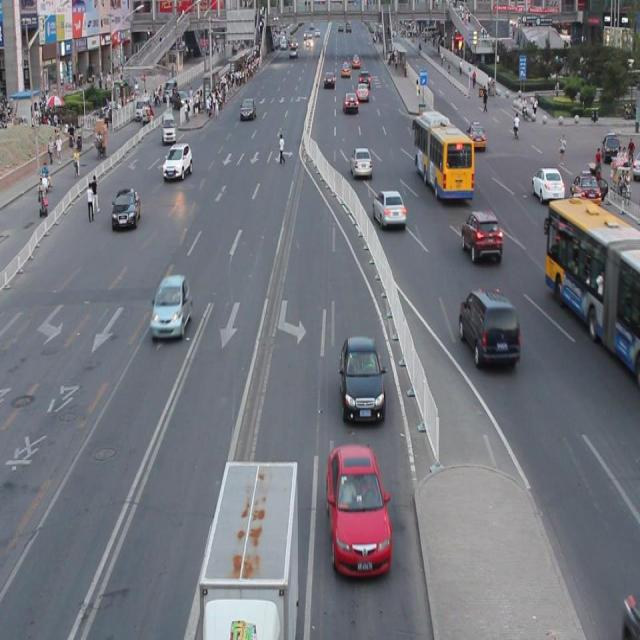bus: (197, 458, 299, 640)
car: (326, 442, 391, 575), (458, 286, 519, 368), (339, 336, 384, 424), (150, 274, 192, 338), (461, 209, 501, 263), (112, 187, 142, 230), (372, 189, 405, 227), (531, 166, 563, 201), (570, 172, 600, 206)
van: (544, 198, 640, 374), (412, 113, 472, 200)
